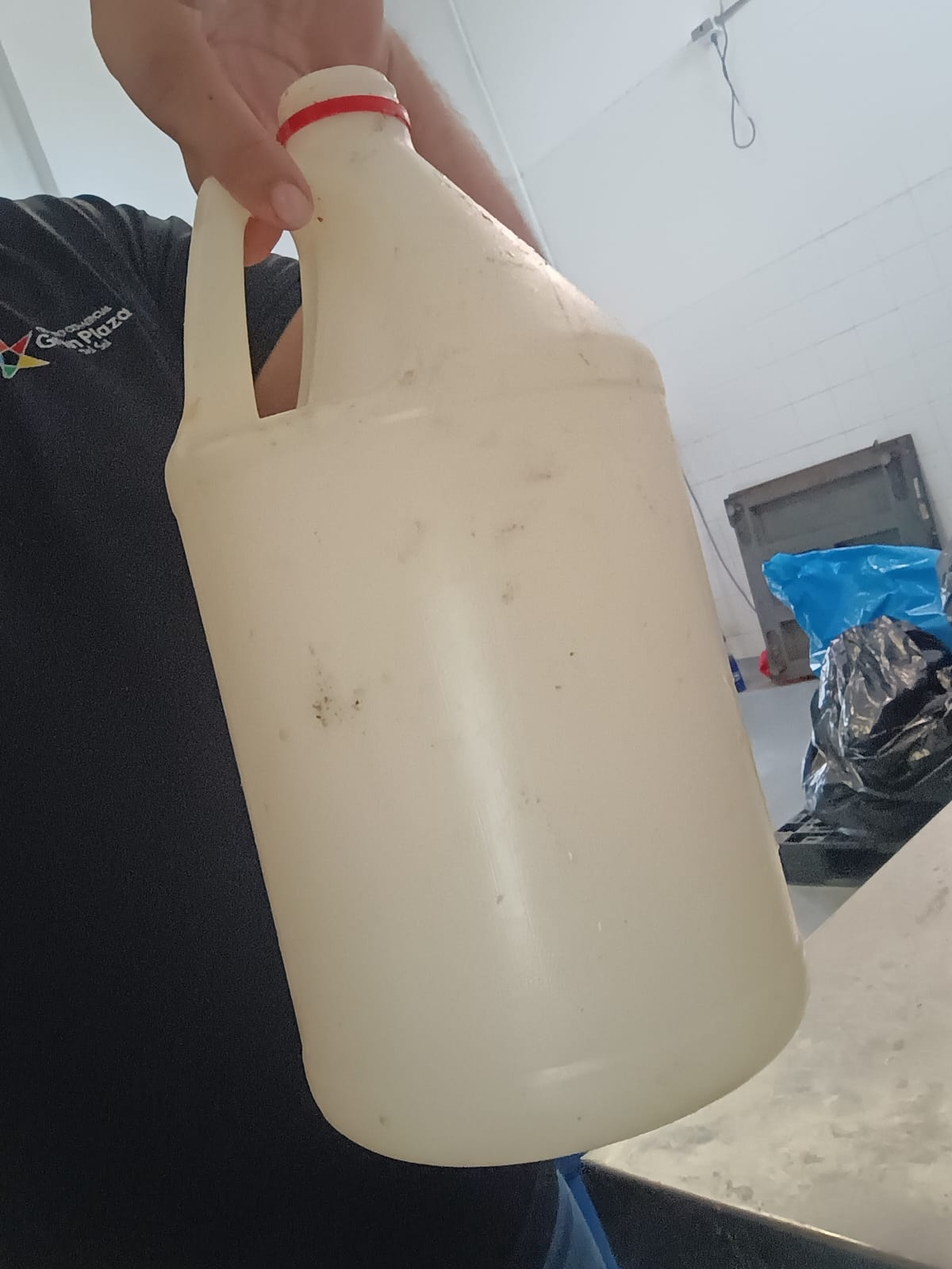Plastico: (163, 67, 813, 1168)
